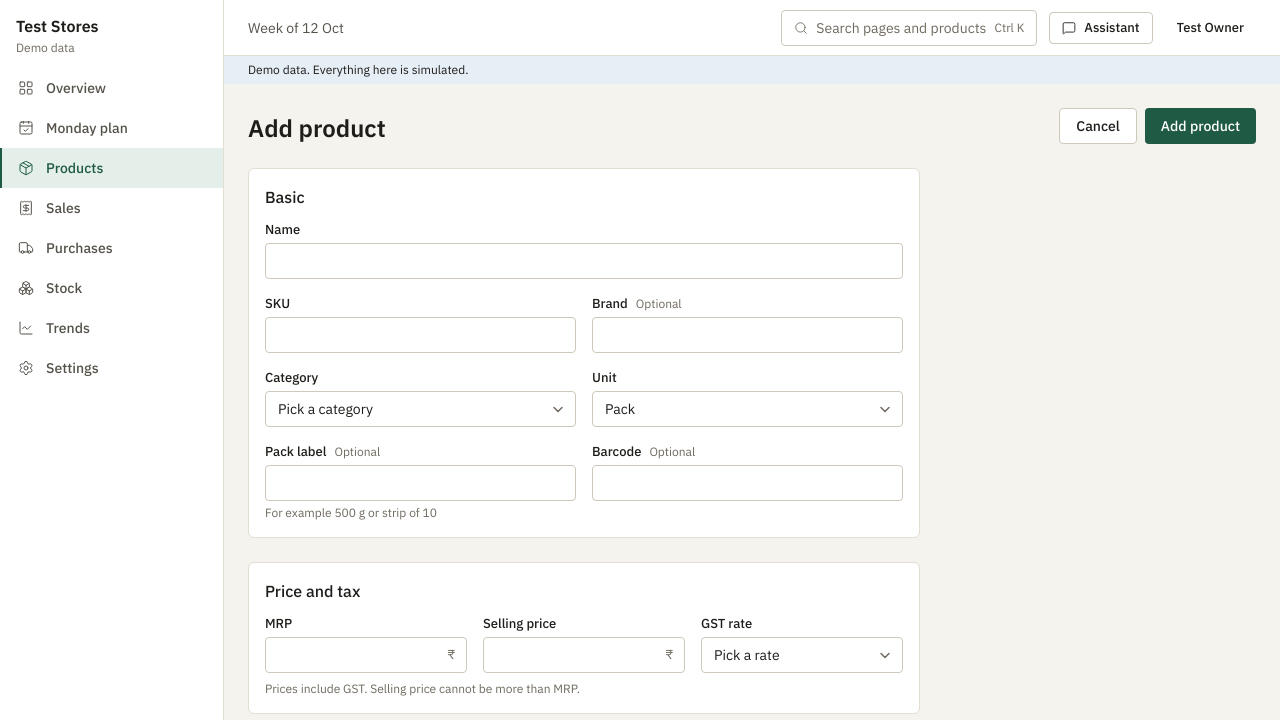
Scenario: product form › does not let the selling price pass the MRP
In the field labelled "MRP": (366, 655) top-left (265, 637), bottom-right (467, 673), type "50"
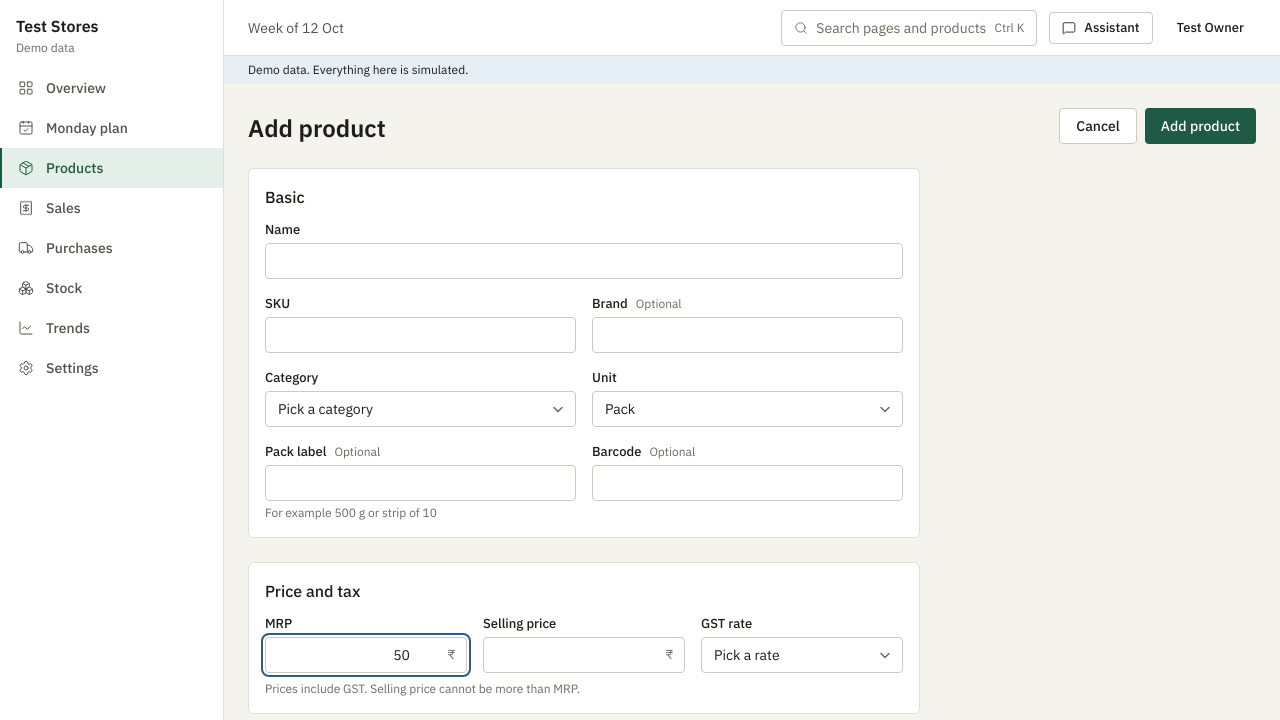
In the field labelled "Selling price": (584, 655) top-left (483, 637), bottom-right (685, 673), type "60"
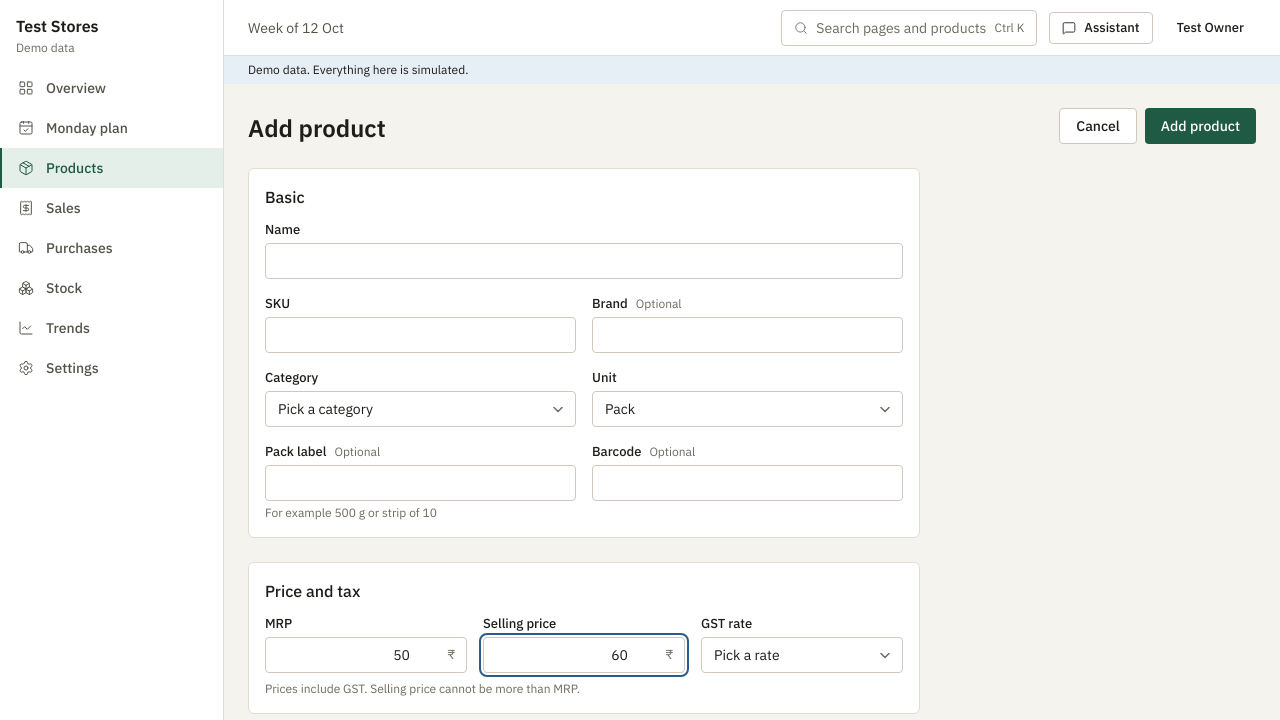
Click the button "Add product": (1200, 126) top-left (1145, 108), bottom-right (1256, 144)
(page scrolled)
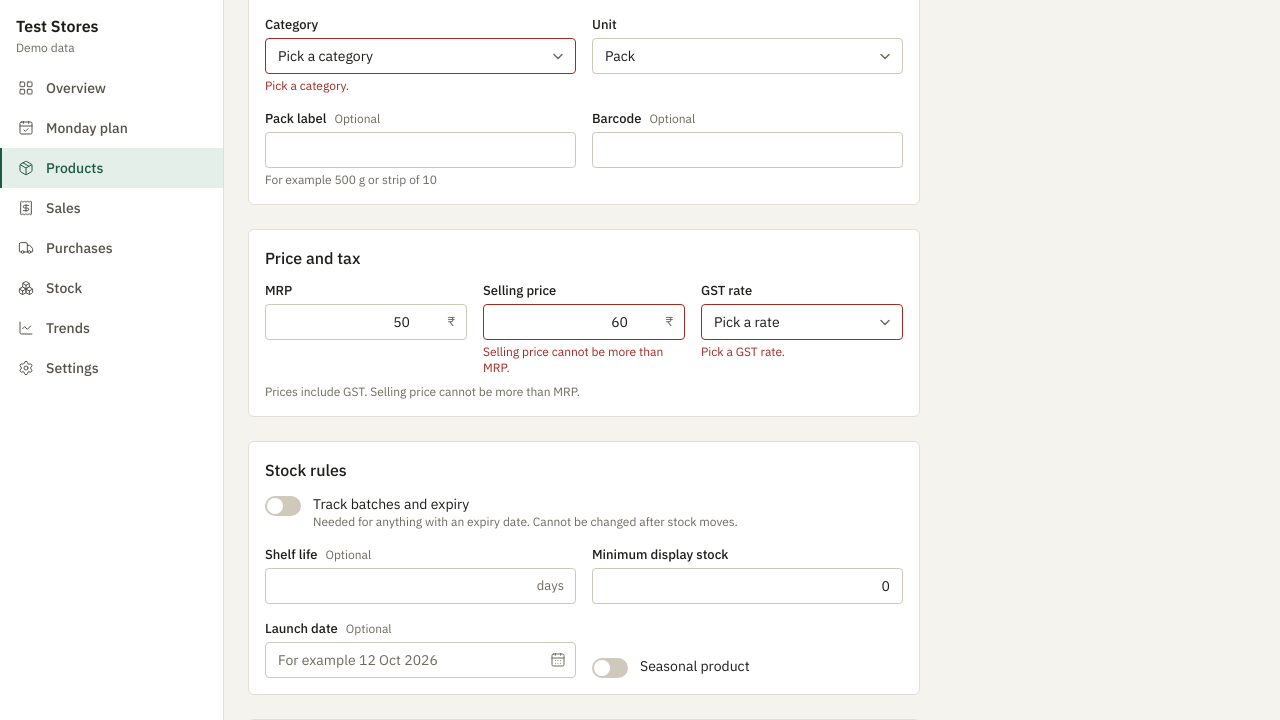
Check: the text "Selling price cannot be more than MRP." is shown, box top-left (483, 344), bottom-right (685, 376)
